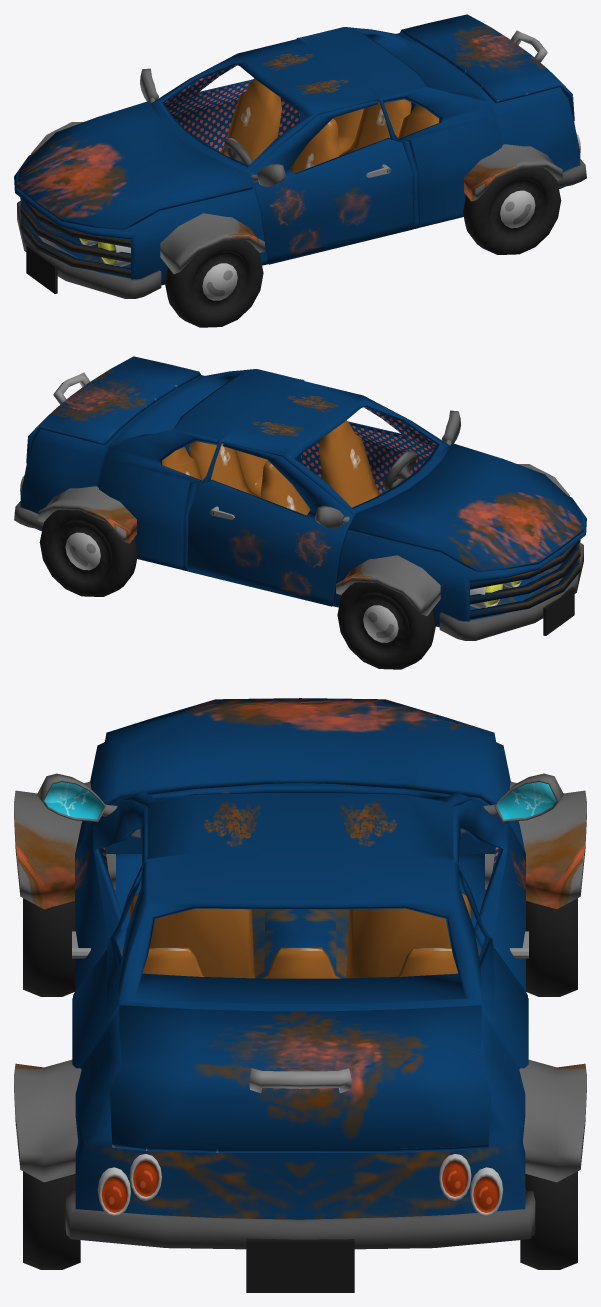
The model's file is Carro1.fbx.
3 views of the same model, one above another, from view 1: azimuth 30°, elevation 25°; view 2: azimuth 150°, elevation 25°; view 3: azimuth 270°, elevation 25° (orthographic). The views are drawn at different scales.
Parts seen in each view (by area): view 1: carros.001, carros.002, carros.003, Cylinder, Cube.009, carros.004, Cube.001, Cube.003, Cube.004, Cube.008, Cube.006, Cylinder.001 (+2 smaller); view 2: carros.001, carros.002, carros.003, Cylinder, Cube.009, carros.004, Cube.001, Cube.003, Cube.004, Cube.008, Cube.006, Torus (+2 smaller); view 3: carros.001, carros.004, carros.003, Cube.001, Cylinder, Cube.009, Cube.005, carros.002, Cube.007, Cylinder.001, Cube.008, Cube.002.
Boxes of the visible parts, box(x1,y1,x2,y2) form: carros.001: box(14, 27, 580, 285); carros.002: box(164, 65, 413, 264); carros.003: box(16, 101, 252, 229); Cylinder: box(164, 168, 561, 327); Cube.009: box(220, 78, 438, 173); carros.004: box(400, 14, 574, 120); Cube.001: box(31, 122, 562, 273); Cube.003: box(20, 197, 131, 277); Cube.004: box(17, 200, 161, 298); Cube.008: box(140, 68, 286, 186); Cube.006: box(26, 245, 57, 293); Cylinder.001: box(79, 133, 580, 266); carros.001: box(20, 369, 586, 627); carros.002: box(187, 407, 436, 606); carros.003: box(348, 443, 584, 571); Cylinder: box(39, 510, 436, 669); Cube.009: box(162, 420, 380, 515); carros.004: box(26, 356, 200, 462); Cube.001: box(38, 464, 569, 615); Cube.003: box(469, 539, 580, 619); Cube.004: box(439, 542, 583, 640); Cube.008: box(314, 410, 460, 528); Cube.006: box(543, 587, 574, 635); Torus: box(383, 450, 416, 490); carros.001: box(72, 742, 528, 1219); carros.004: box(109, 1005, 491, 1152); carros.003: box(96, 698, 504, 805); Cube.001: box(14, 781, 586, 1182); Cylinder: box(23, 898, 577, 1269); Cube.009: box(129, 893, 471, 978); Cube.005: box(65, 1191, 535, 1249); carros.002: box(72, 800, 528, 991); Cube.007: box(246, 1238, 354, 1292); Cylinder.001: box(97, 1154, 503, 1215); Cube.008: box(37, 773, 563, 822); Cube.002: box(105, 783, 495, 853).
Bounding box in the file's own units: 494 × 154 × 259.
